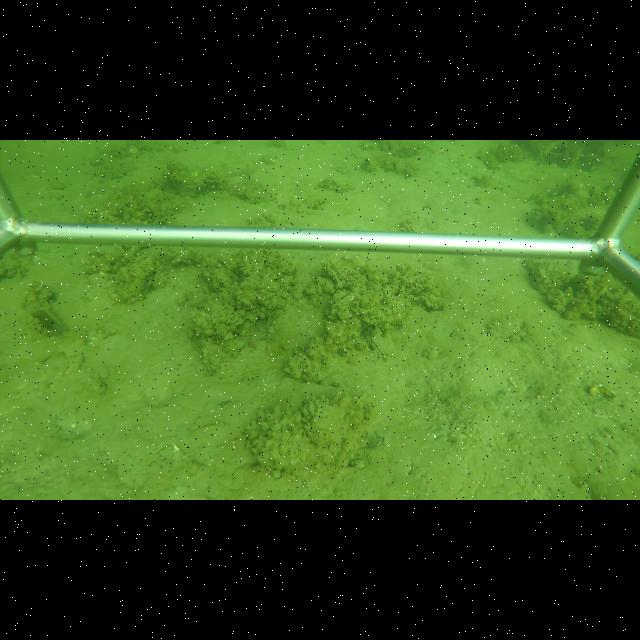Oyster-Closed: (367, 336, 393, 360)
